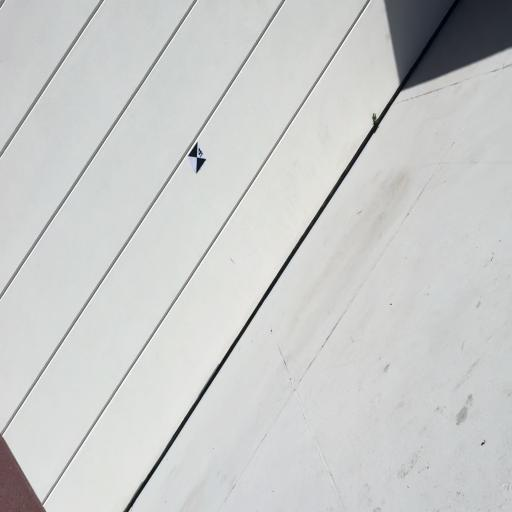target4: (188, 141, 207, 174)
